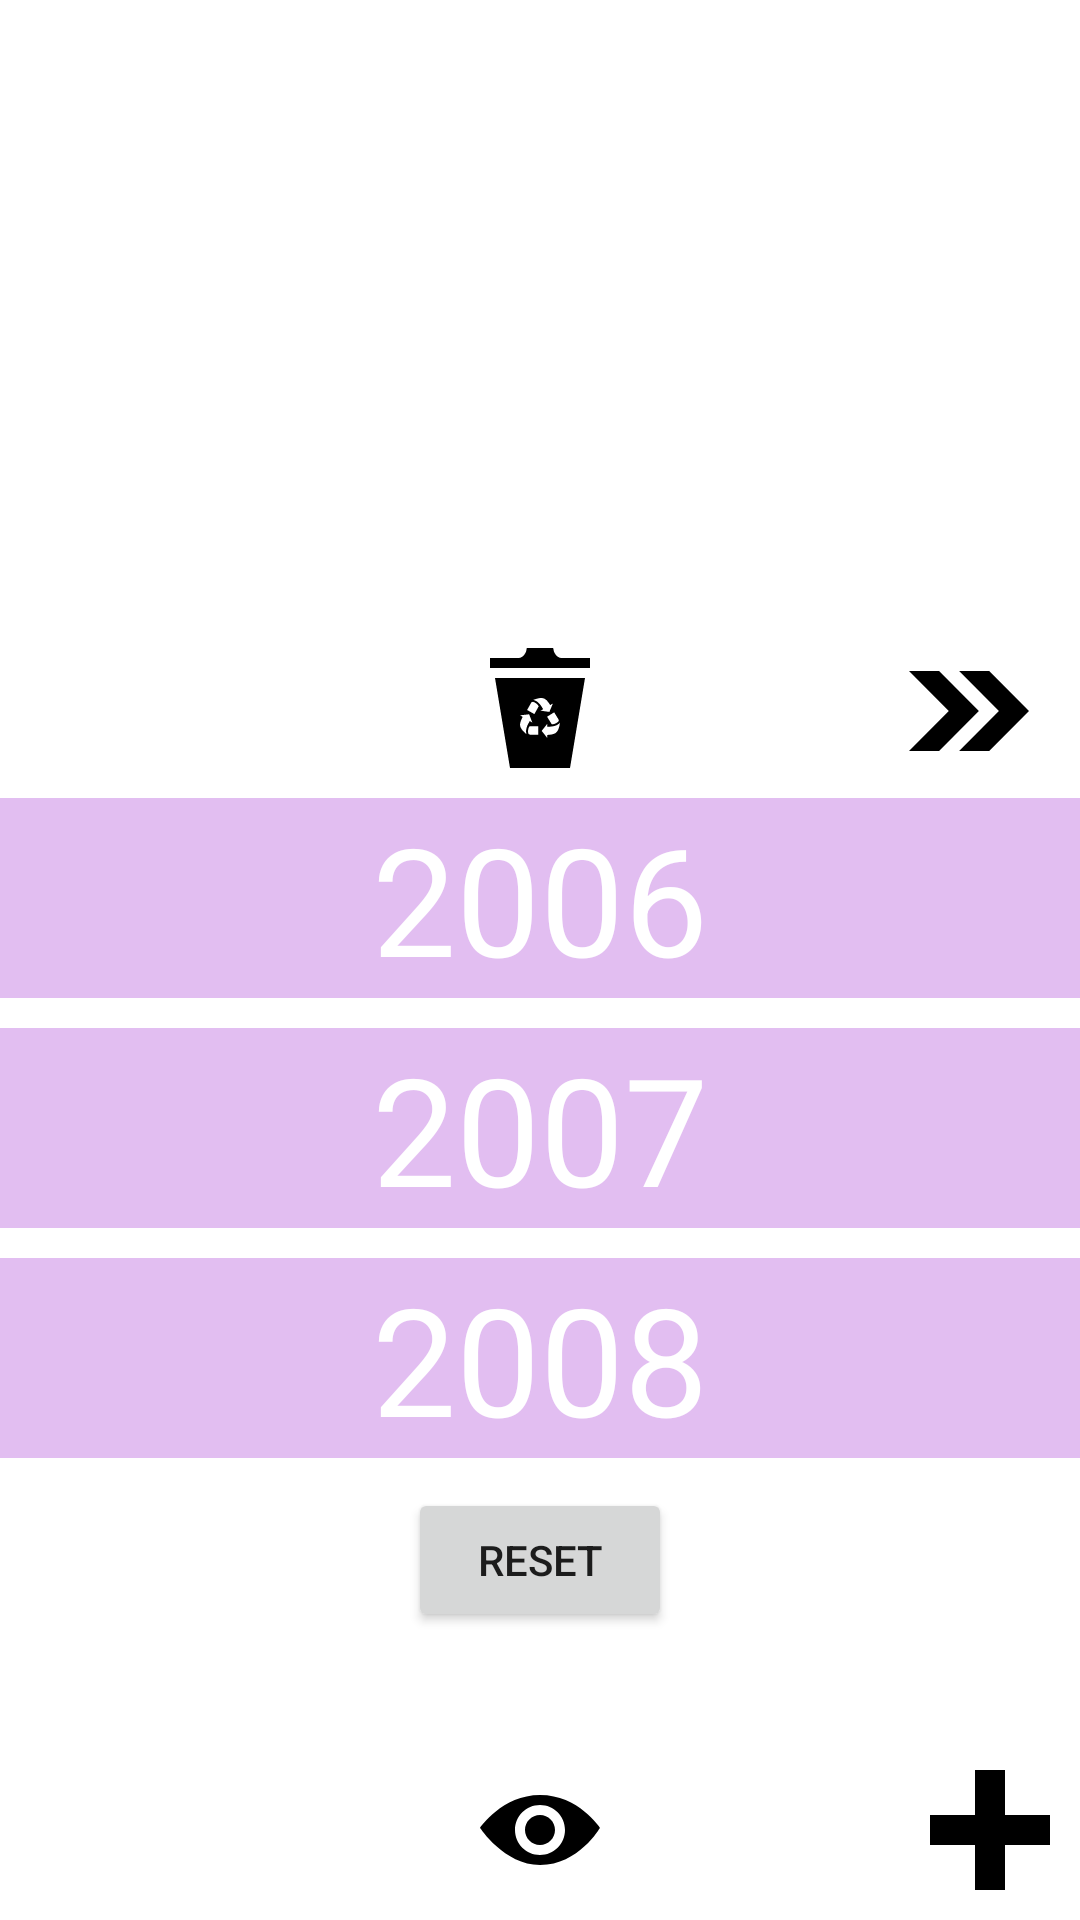

Point at icon controls on the screen. Image size 1080px×1920px, points as point (x, y).
add: point (990, 1830)
delete: point (540, 708)
next: point (969, 711)
open eye: point (540, 1830)
